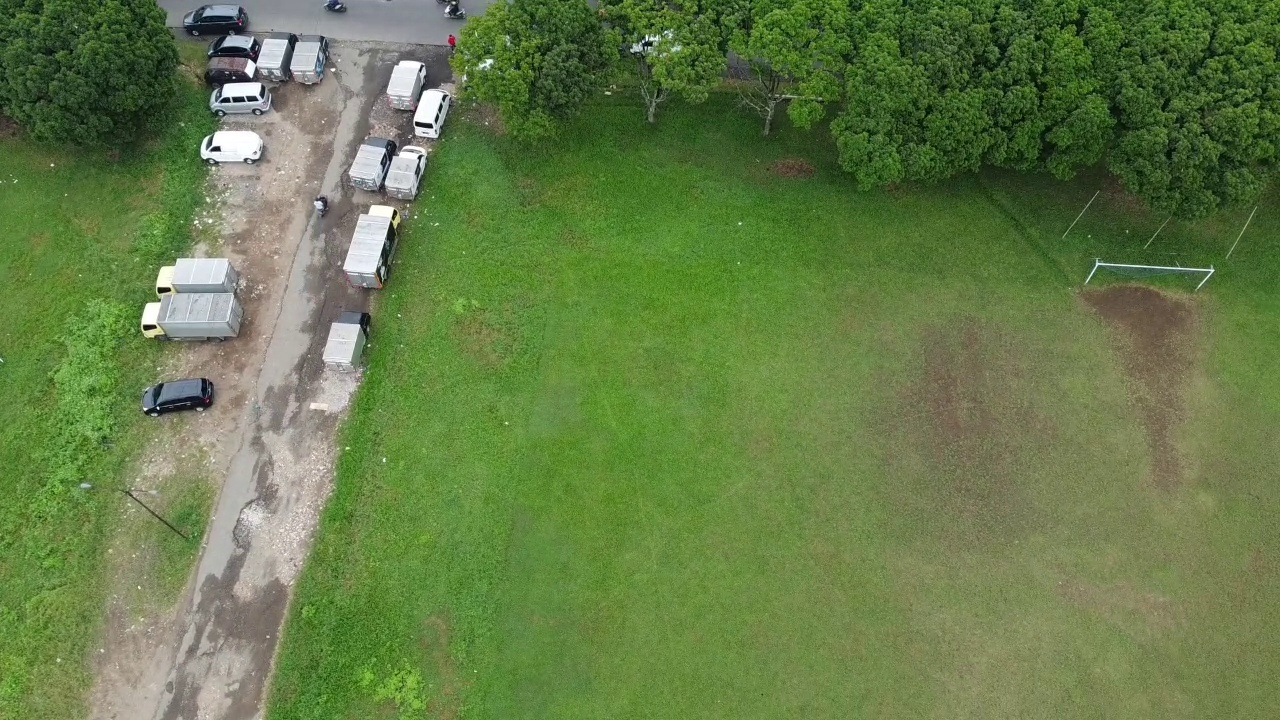mobil: (139, 378, 215, 415), (180, 3, 254, 38), (196, 130, 263, 168), (201, 29, 263, 70), (212, 81, 273, 121), (201, 54, 262, 88), (415, 86, 452, 139)
